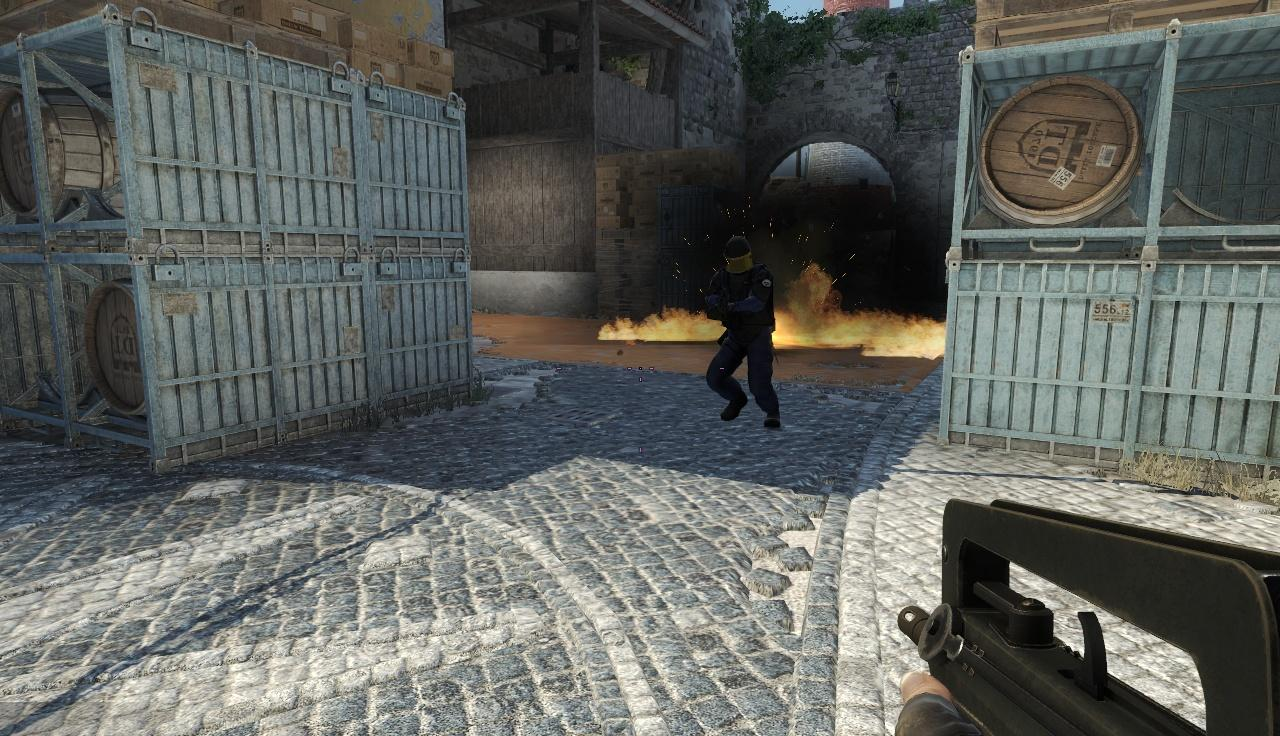ct: (706, 235, 780, 426)
cthead: (722, 236, 754, 275)
rifle: (889, 499, 1280, 736)
